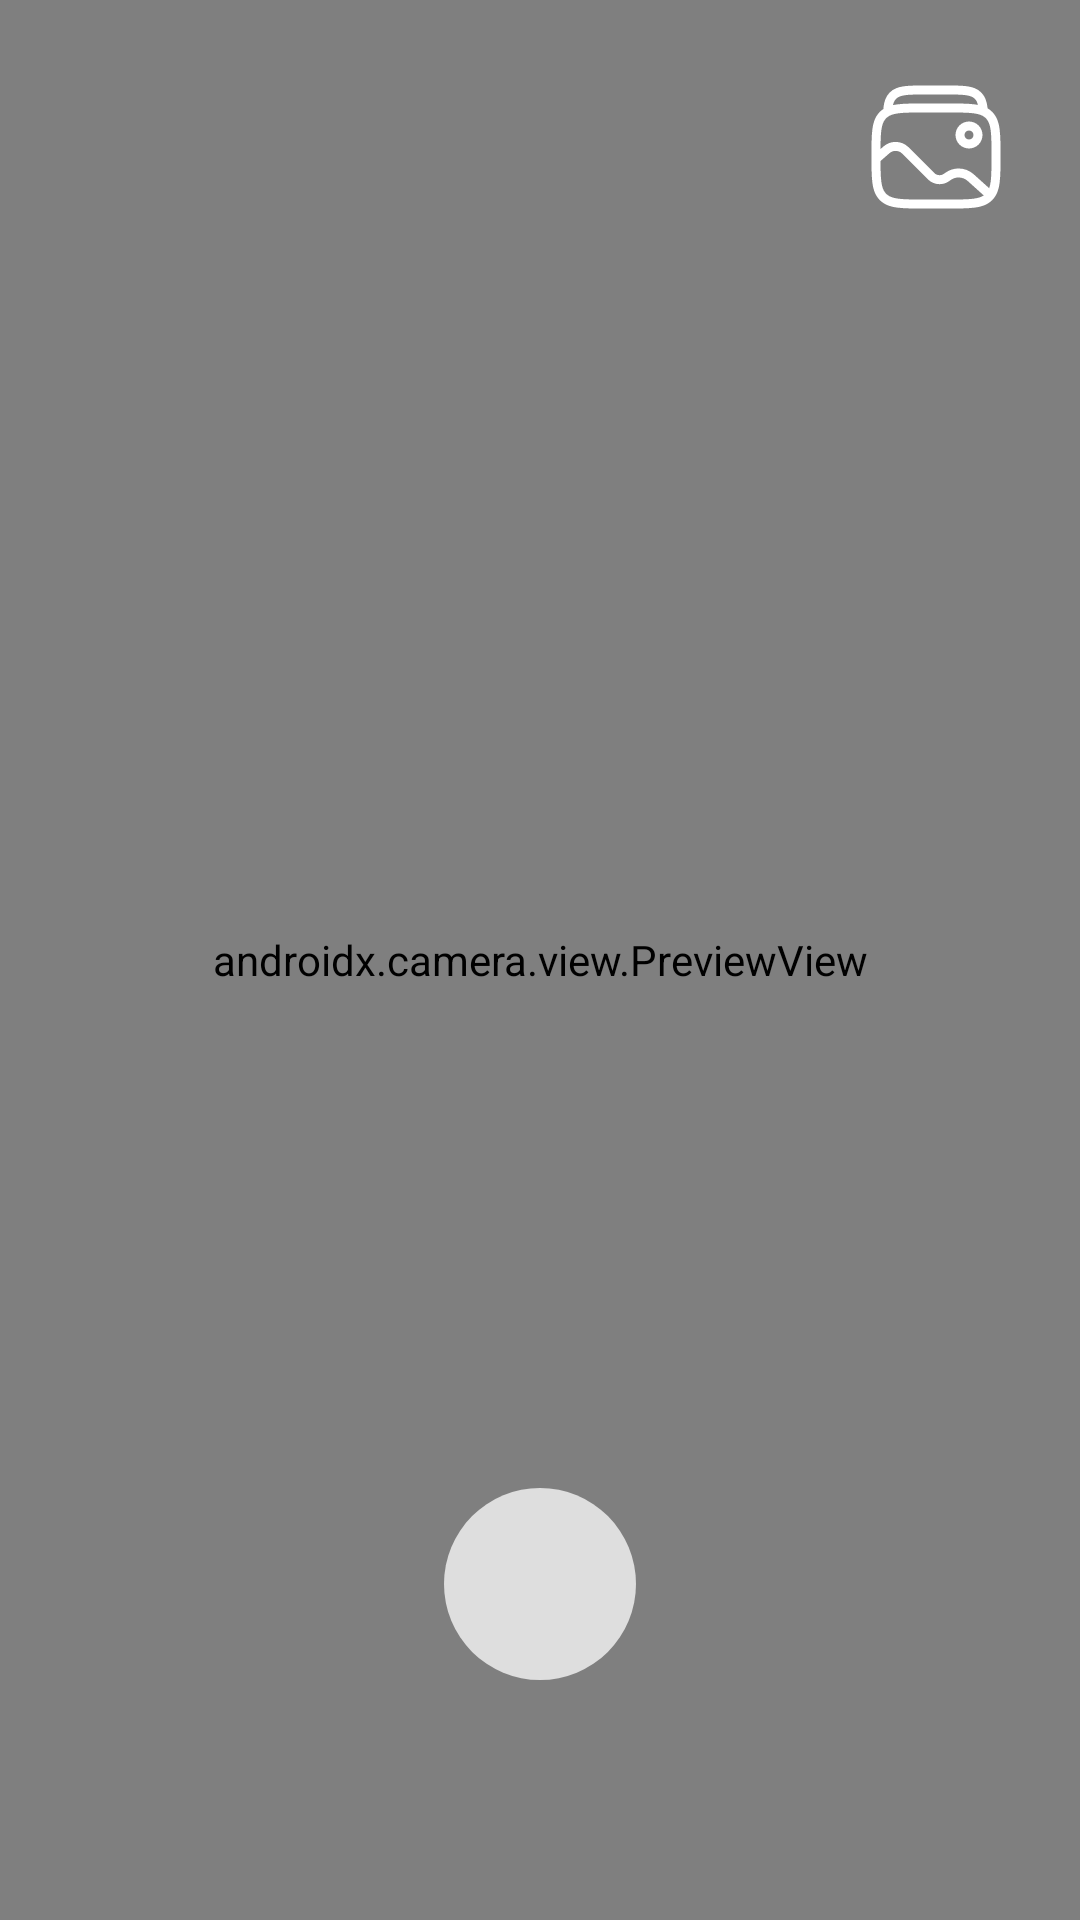

Screen size 1080*1920. Icon name, then its box in pixels as (x1, y1, x2, y2):
gallery: (871, 85, 1001, 209)
